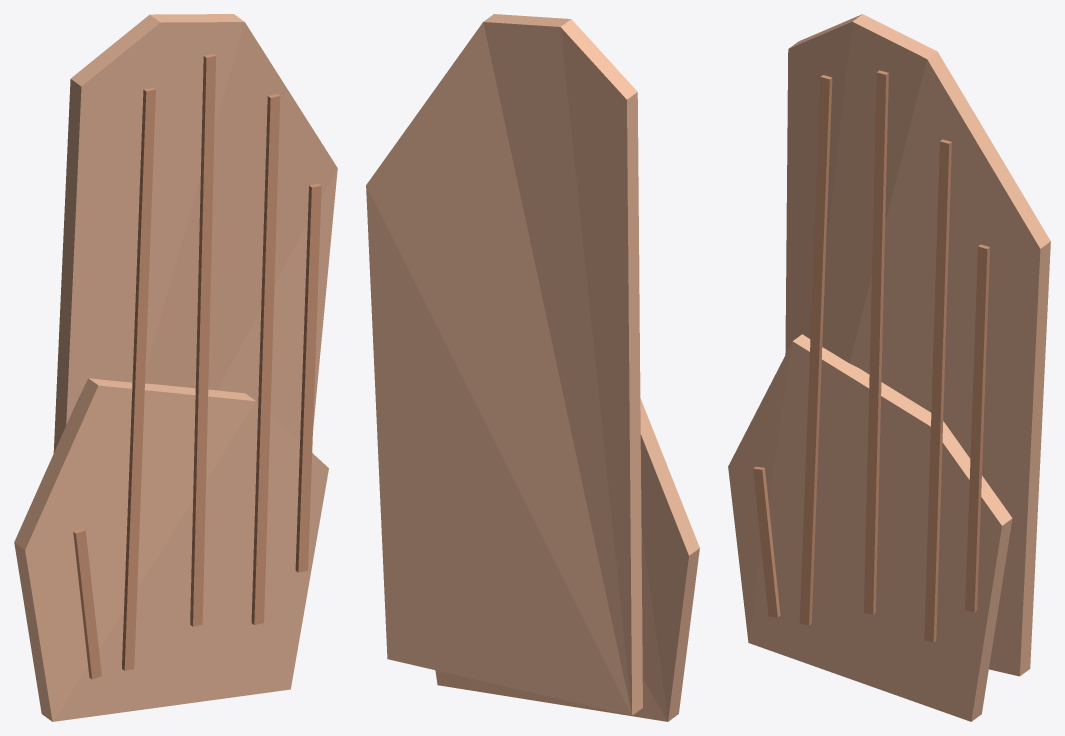
File: trapo.fbx
3 views of the same model, side by side, from view 1: azimuth 30°, elevation 25°; view 2: azimuth 150°, elevation 25°; view 3: azimuth 330°, elevation 25° (orthographic). The views are drawn at different scales.
Parts seen in each view (by area): view 1: Trapo; view 2: Trapo; view 3: Trapo.
Part boxes in pixels (x1,y1,x2,y2): Trapo: [14, 14, 337, 721]; Trapo: [366, 14, 699, 721]; Trapo: [728, 14, 1050, 721].
Bounding box in the file's own units: 118 × 246 × 26.5.
